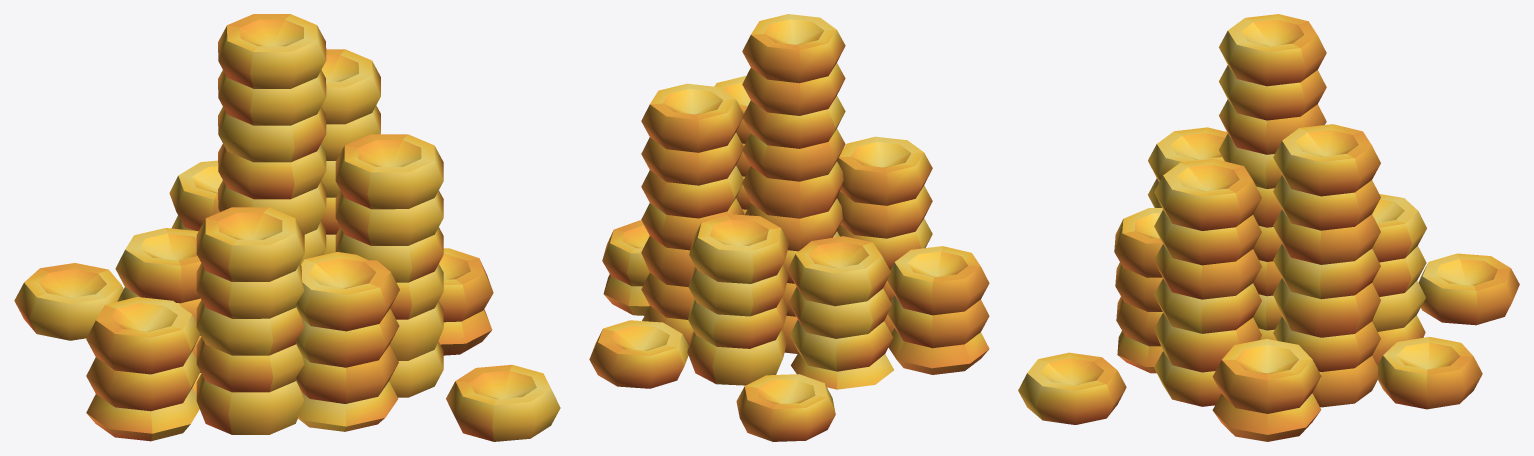
The model's file is coin-stack-large-gltf.glb.
3 views of the same model, side by side, from view 1: azimuth 30°, elevation 25°; view 2: azimuth 150°, elevation 25°; view 3: azimuth 270°, elevation 25° (orthographic). The views are drawn at different scales.
Visible parts, largest first — view 1: coin_stack_large; view 2: coin_stack_large; view 3: coin_stack_large.
Boxes of the visible parts, left/top/right/bottom form: coin_stack_large: left=14, top=14, right=560, bottom=441; coin_stack_large: left=589, top=14, right=989, bottom=441; coin_stack_large: left=1018, top=14, right=1519, bottom=441.
Size of the model in its own units: 1.44 by 1.16 by 1.66.
Materials: 1 (1 with a texture image).
